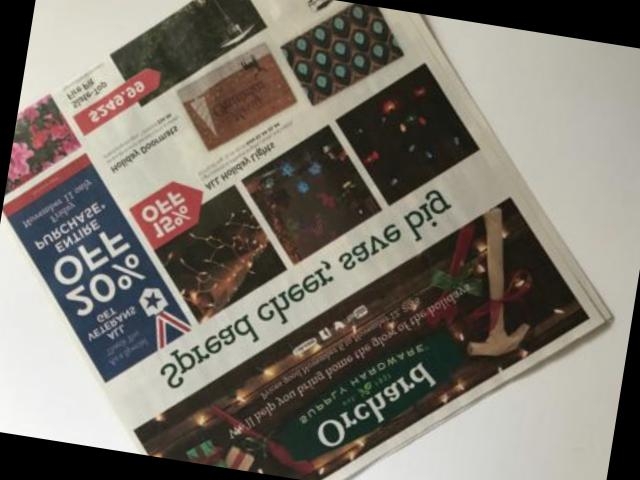cardboard paper: (0, 0, 606, 480)
